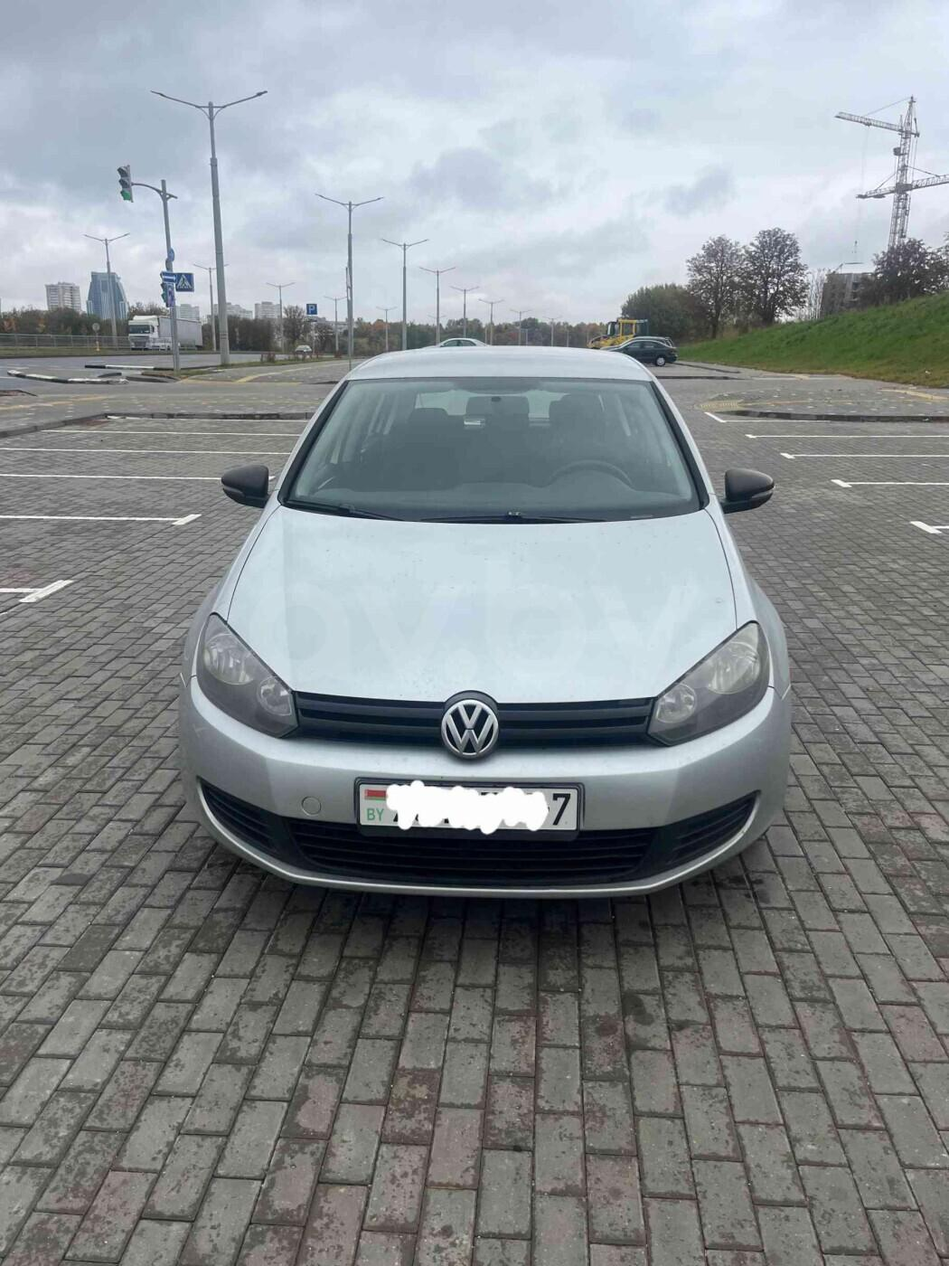Golf_2008-2013: (176, 342, 791, 901)
